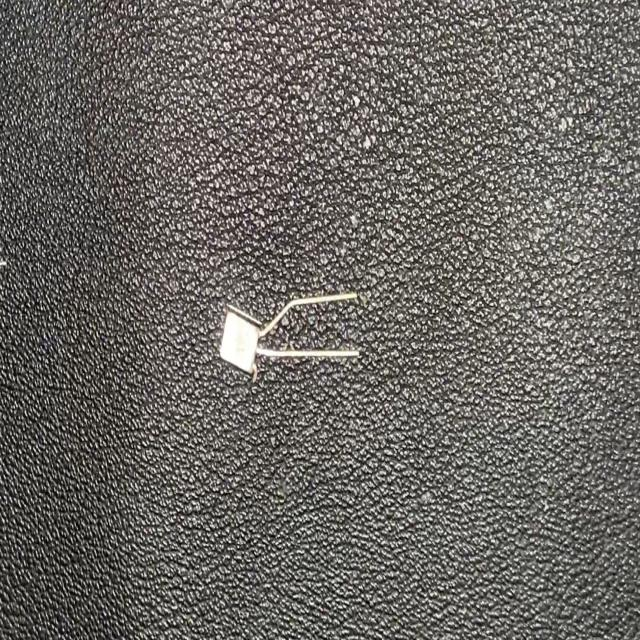missing-leg: (218, 289, 361, 386)
